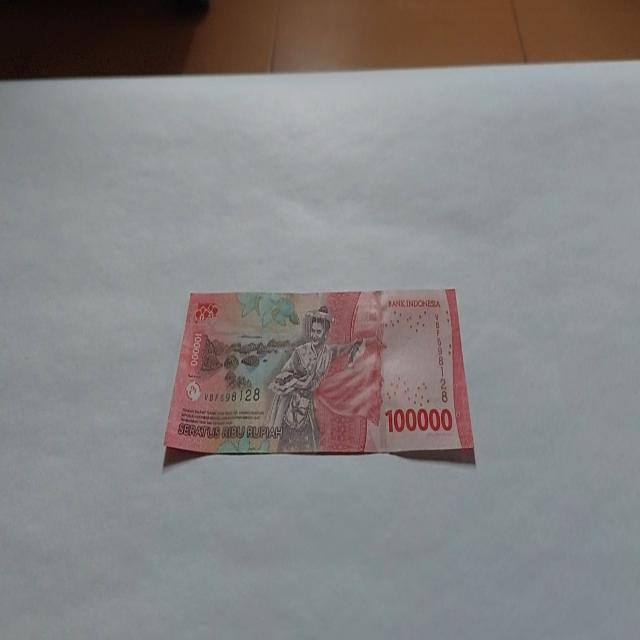seratus ribu rupiah: (162, 286, 476, 465), (260, 303, 368, 453)
